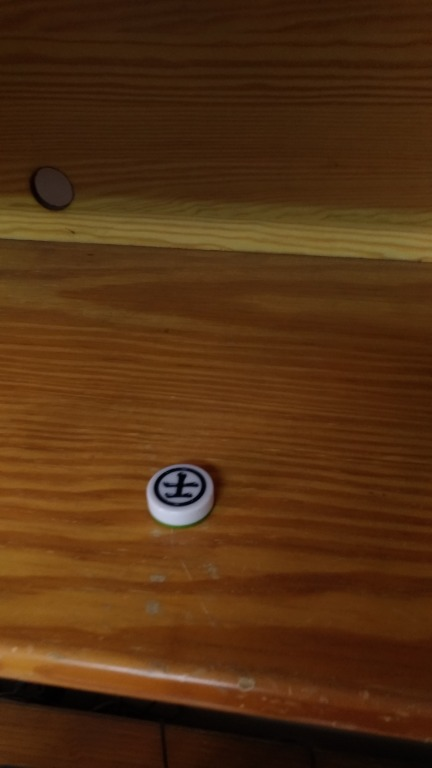b-advisor: (132, 447, 240, 547)
